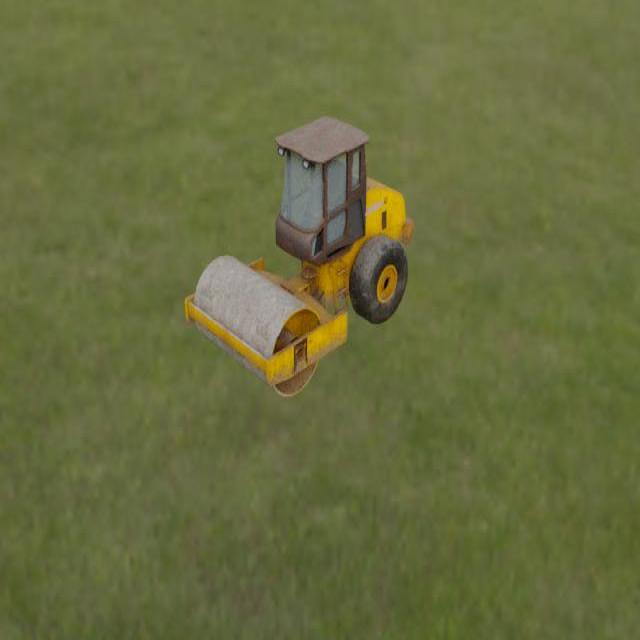Roller: (184, 116, 413, 397)
